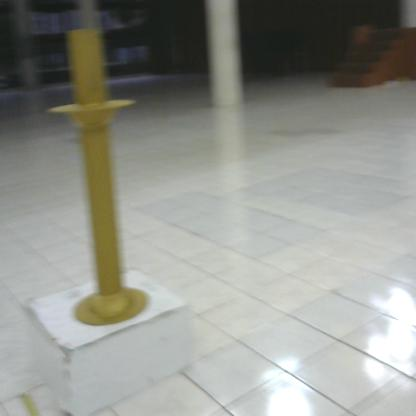pole: (41, 23, 157, 334)
